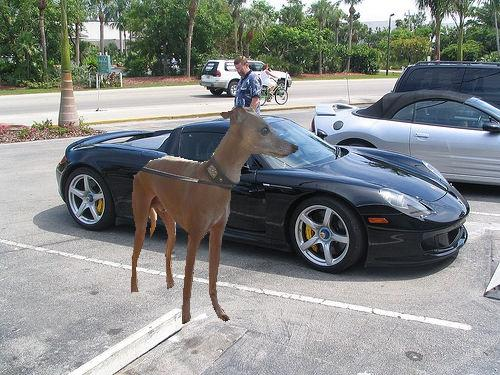tampered: (132, 108, 298, 324)
